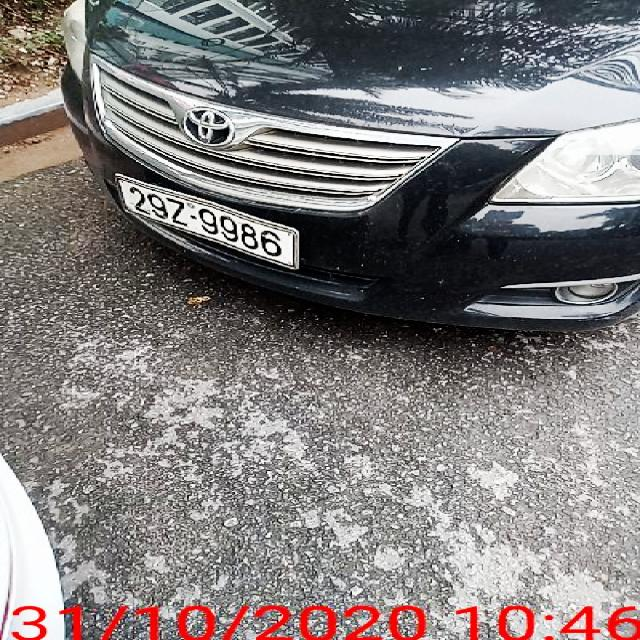license_plate: (117, 176, 302, 271)
